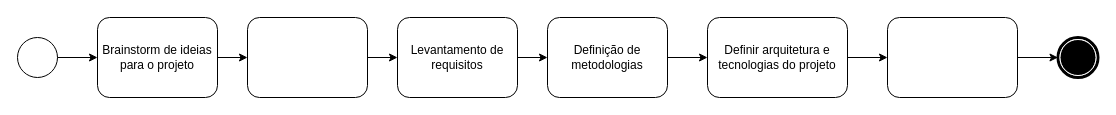
Image size: 1116x115. Some labels were removed from this diagram. The centre of each missing label's shape, as x and y in pixels:
Desenvolver o produto: (x=952, y=57)
Elaborar artefatos: (x=307, y=57)
